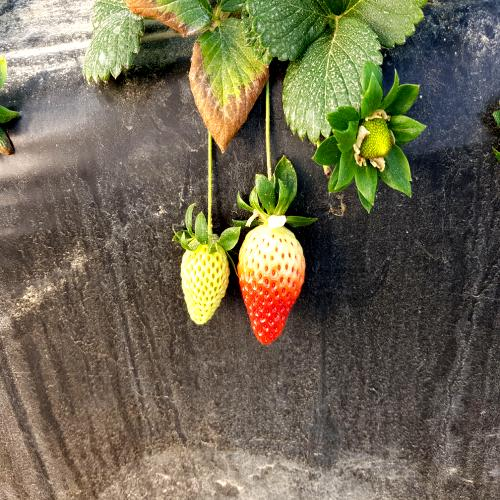partially-ripe: (236, 214, 309, 351)
unripe: (172, 229, 230, 332)
